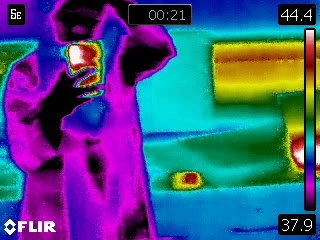human: (10, 1, 180, 237)
